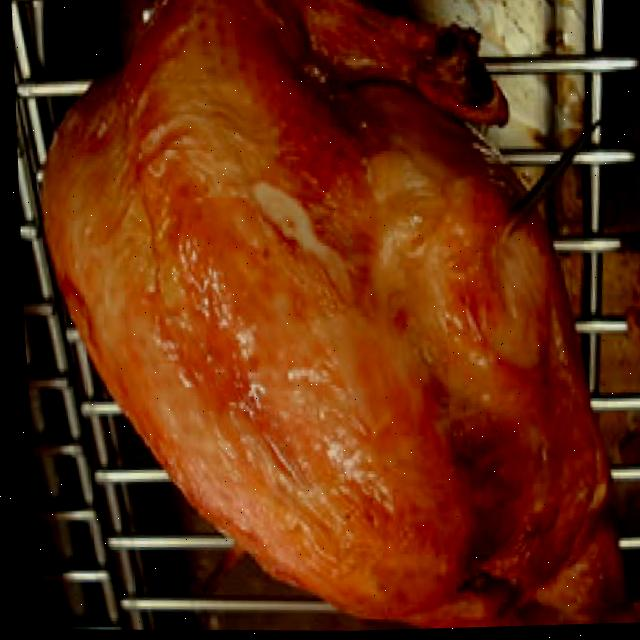鸡肉料理 含炸鸡: (20, 0, 640, 640)
